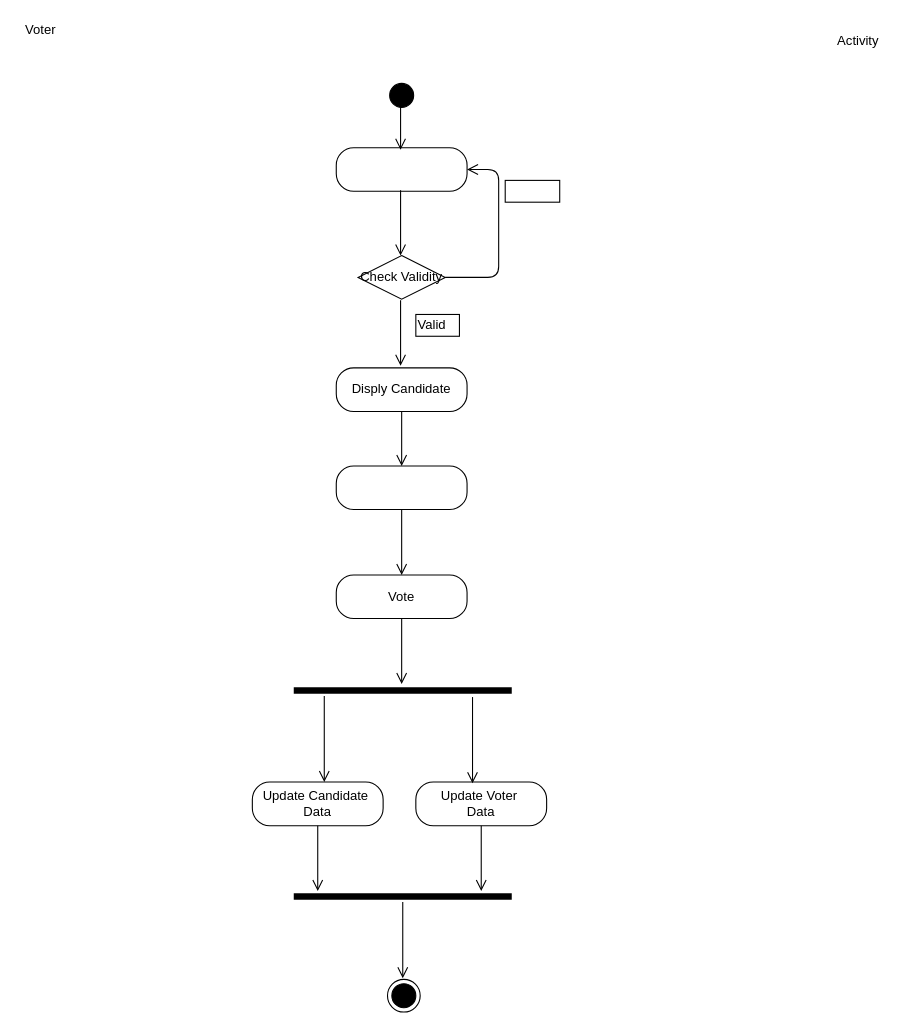
This 898x1031 diagram has some shape labels left out. The centre of each missing label's shape, as x and y in pixels:
"Authentication" belongs at [401,169].
"Invalid" belongs at [532,190].
"Select Candidate" belongs at [401,487].
